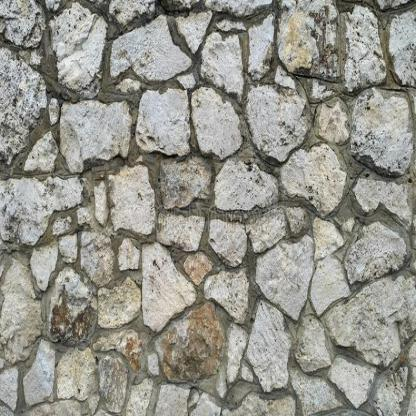Sedimentary_Limestone: (250, 232, 320, 343), (59, 89, 134, 168), (251, 74, 314, 164), (349, 85, 415, 169), (136, 233, 196, 321), (190, 80, 250, 163), (331, 220, 411, 282)
